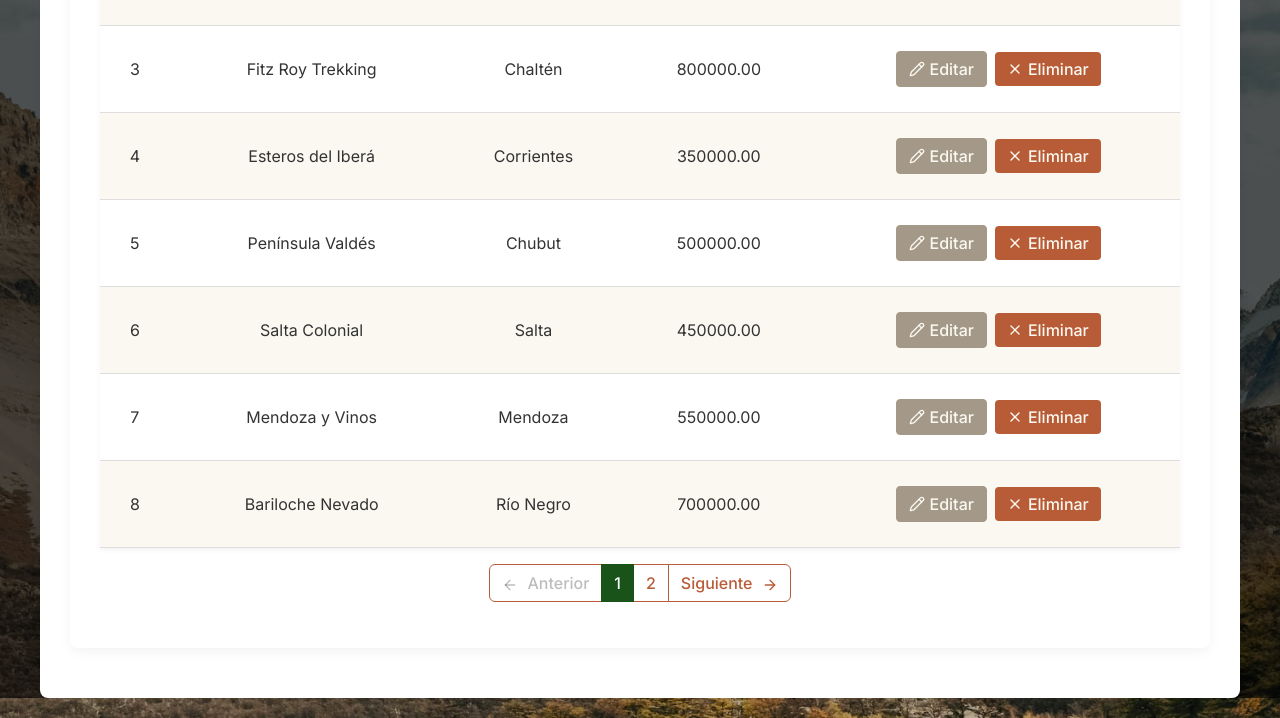
Scenario: AdminPackageList Component › should handle pagination: show next items on "Siguiente"
(page scrolled)
Expected: the text "Ushuaia Fin del Mundo" is not shown
Click the link "Siguiente" at {"x": 729, "y": 583}, box [668, 564, 791, 602]
(page scrolled)
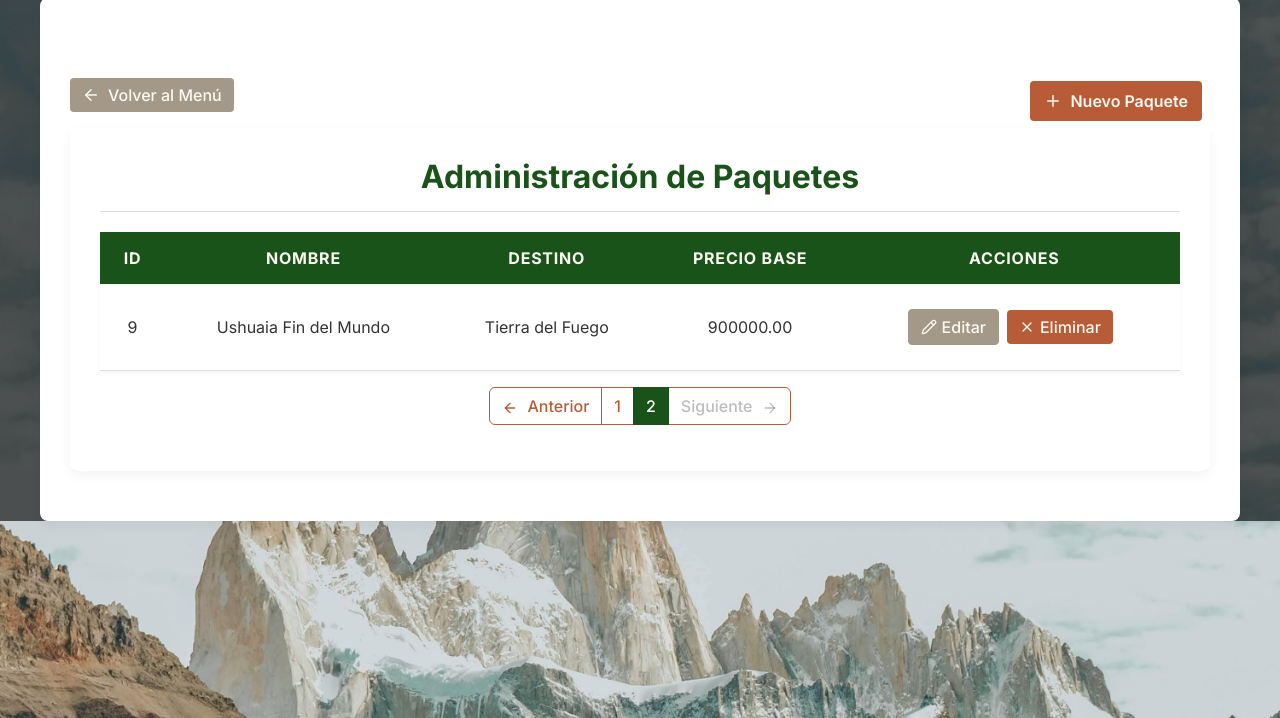
Result: the text "Ushuaia Fin del Mundo" is shown at [165, 284, 442, 371]
